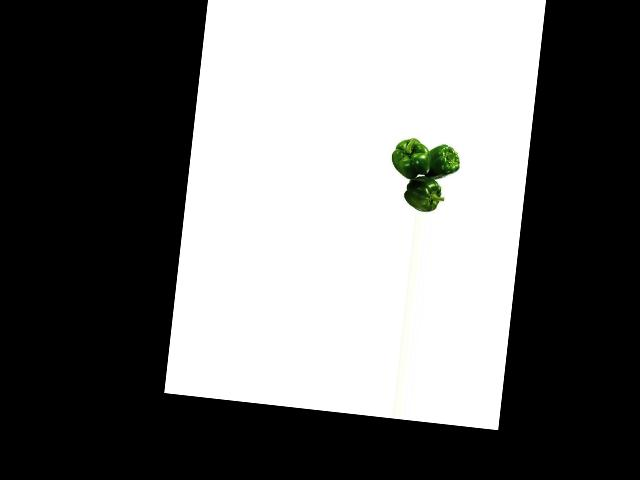bell_pepper: (386, 132, 434, 180)
